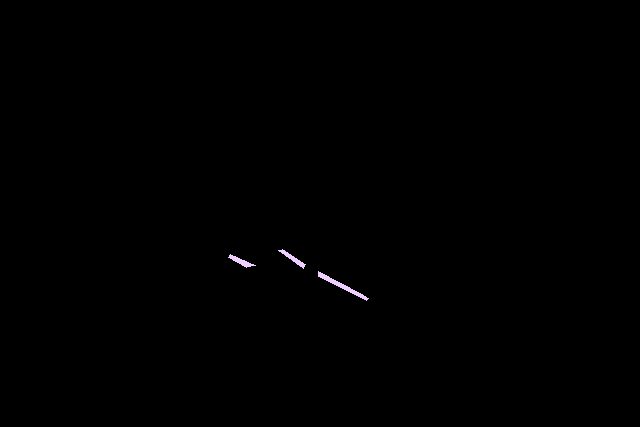Train: (278, 249, 368, 301), (228, 254, 255, 268)
